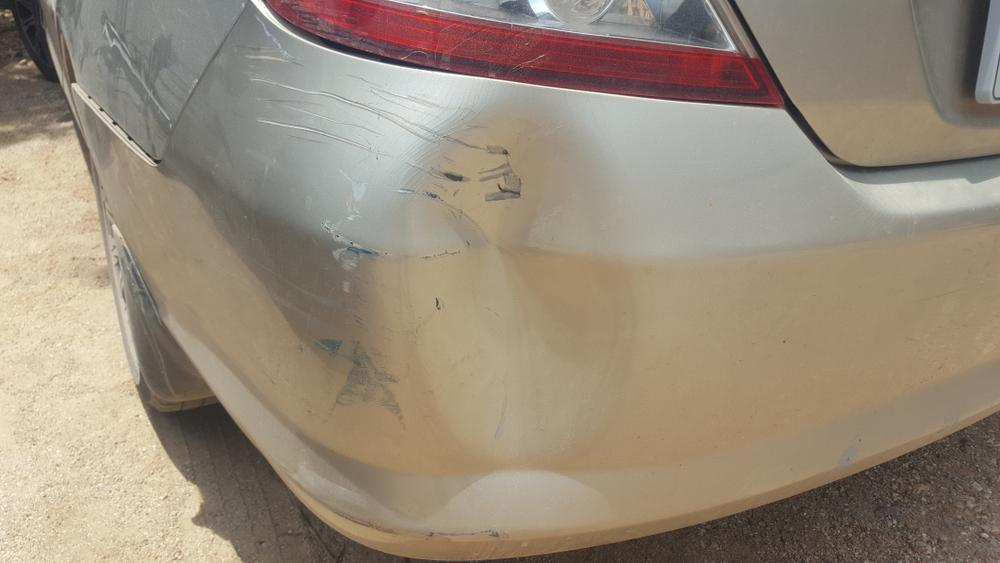dent: (405, 89, 635, 459)
scratch: (242, 43, 464, 437)
